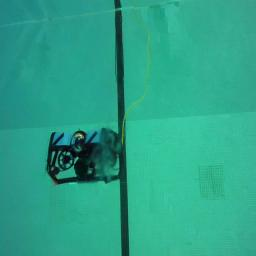front: (46, 126, 123, 185)
